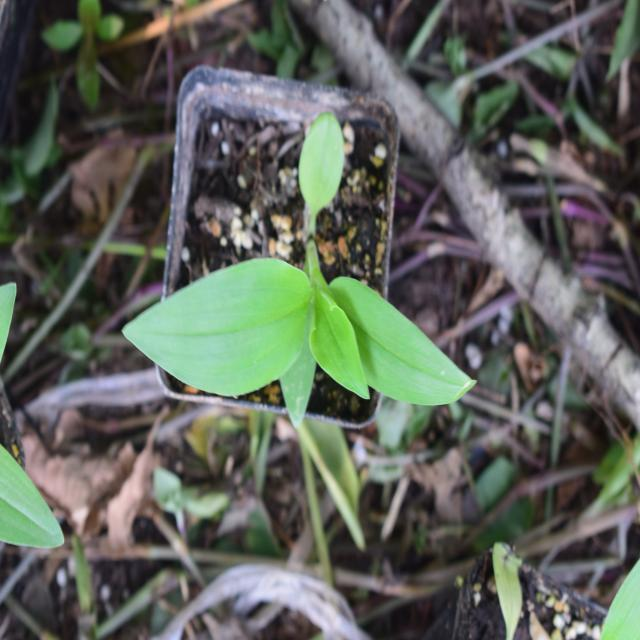Common Dayflower: (133, 221, 462, 462)
